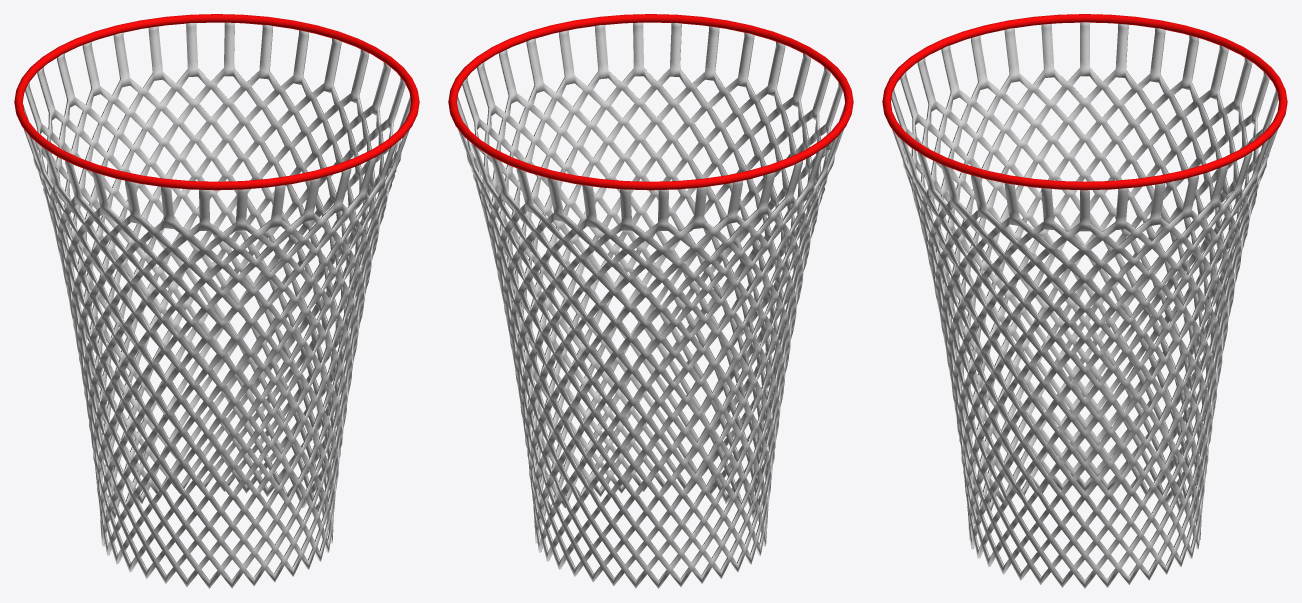
Rendered from Hoop.fbx.
3 views of the same model, side by side, from view 1: azimuth 30°, elevation 25°; view 2: azimuth 150°, elevation 25°; view 3: azimuth 270°, elevation 25° (orthographic).
Visible parts, largest first — view 1: Cylinder, Torus; view 2: Cylinder, Torus; view 3: Cylinder, Torus.
Part boxes in pixels (x1=…): Cylinder: x1=23, y1=22, x2=410, y2=588; Torus: x1=14, y1=14, x2=419, y2=190; Cylinder: x1=457, y1=22, x2=844, y2=588; Torus: x1=448, y1=14, x2=853, y2=190; Cylinder: x1=891, y1=22, x2=1278, y2=588; Torus: x1=882, y1=14, x2=1287, y2=190.
Bounding box in the file's own units: 204 × 246 × 204.
